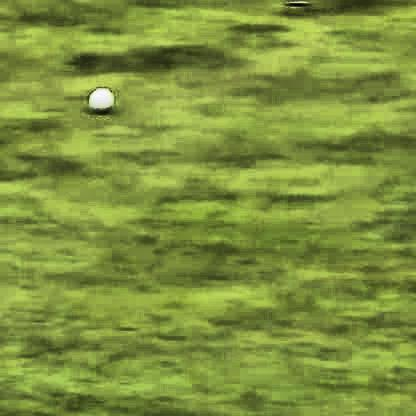golfball: (86, 84, 111, 112)
